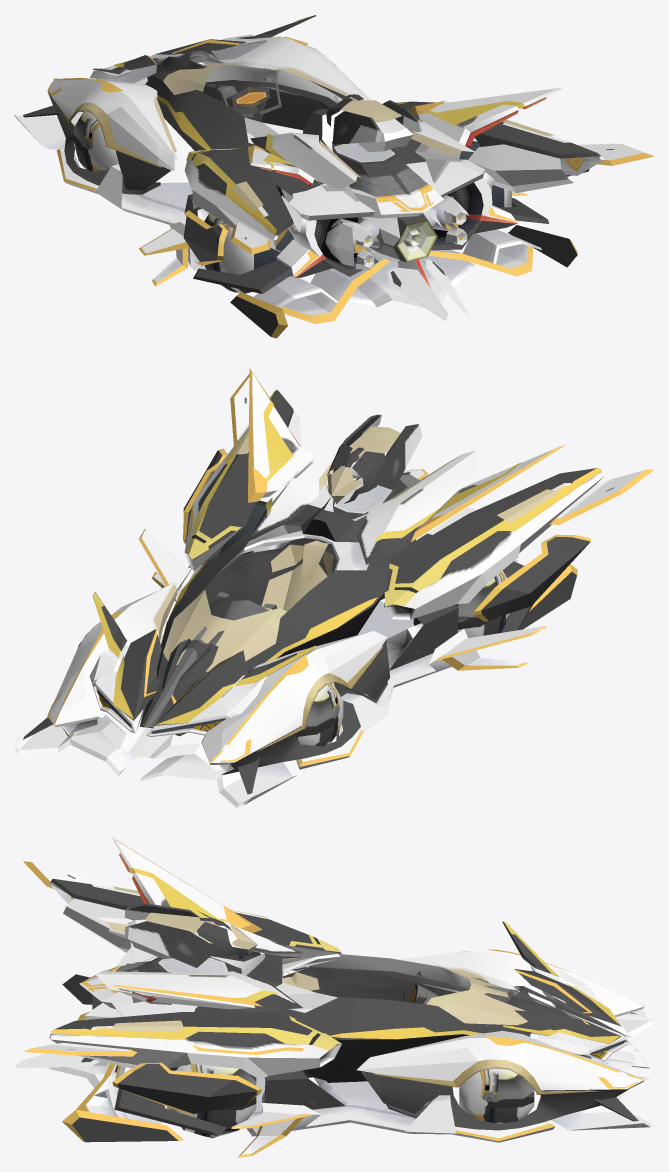
3 views of the same model, one above another, from view 1: azimuth 30°, elevation 25°; view 2: azimuth 150°, elevation 25°; view 3: azimuth 270°, elevation 25° (orthographic). The views are drawn at different scales.
Parts seen in each view (by area): view 1: body; view 2: body; view 3: body.
Boxes of the visible parts, x1,y1,x2,y2 form: body: (14,15,654,338); body: (14,367,654,807); body: (14,837,654,1157).
Bounding box in the file's own units: 3.6 × 1.48 × 5.12.
Materials: 1 (1 with a texture image).
